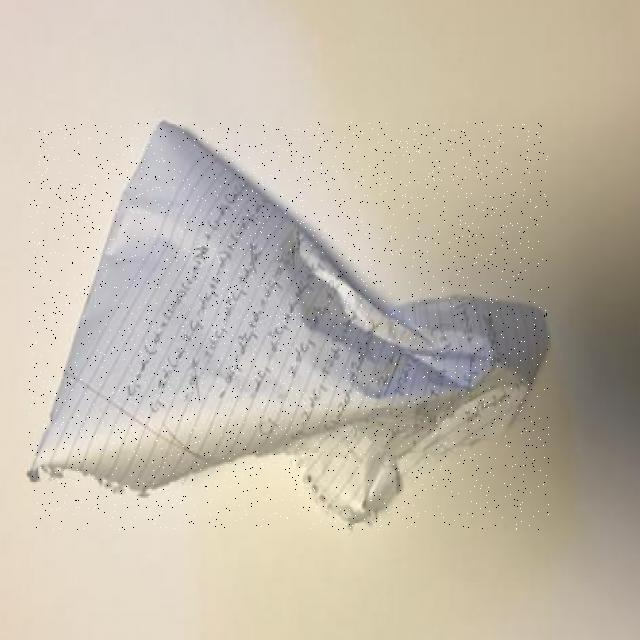paper: (29, 123, 549, 530)
